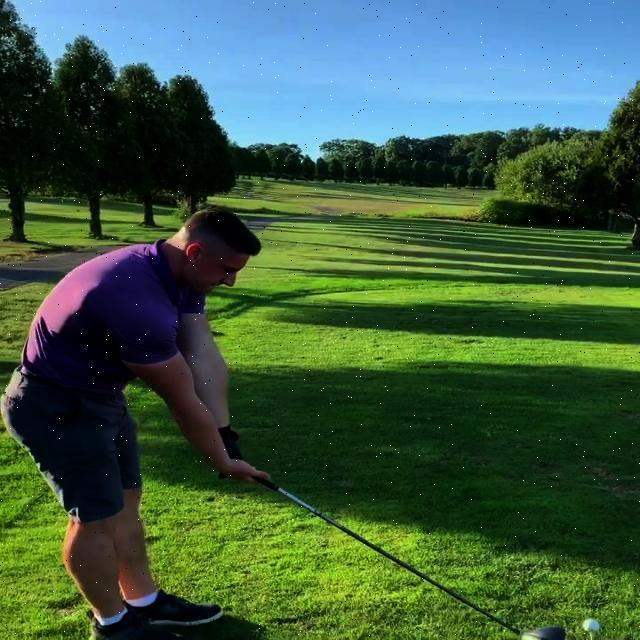ClubHead: (522, 626, 568, 640)
GolfBall: (582, 620, 600, 632)
